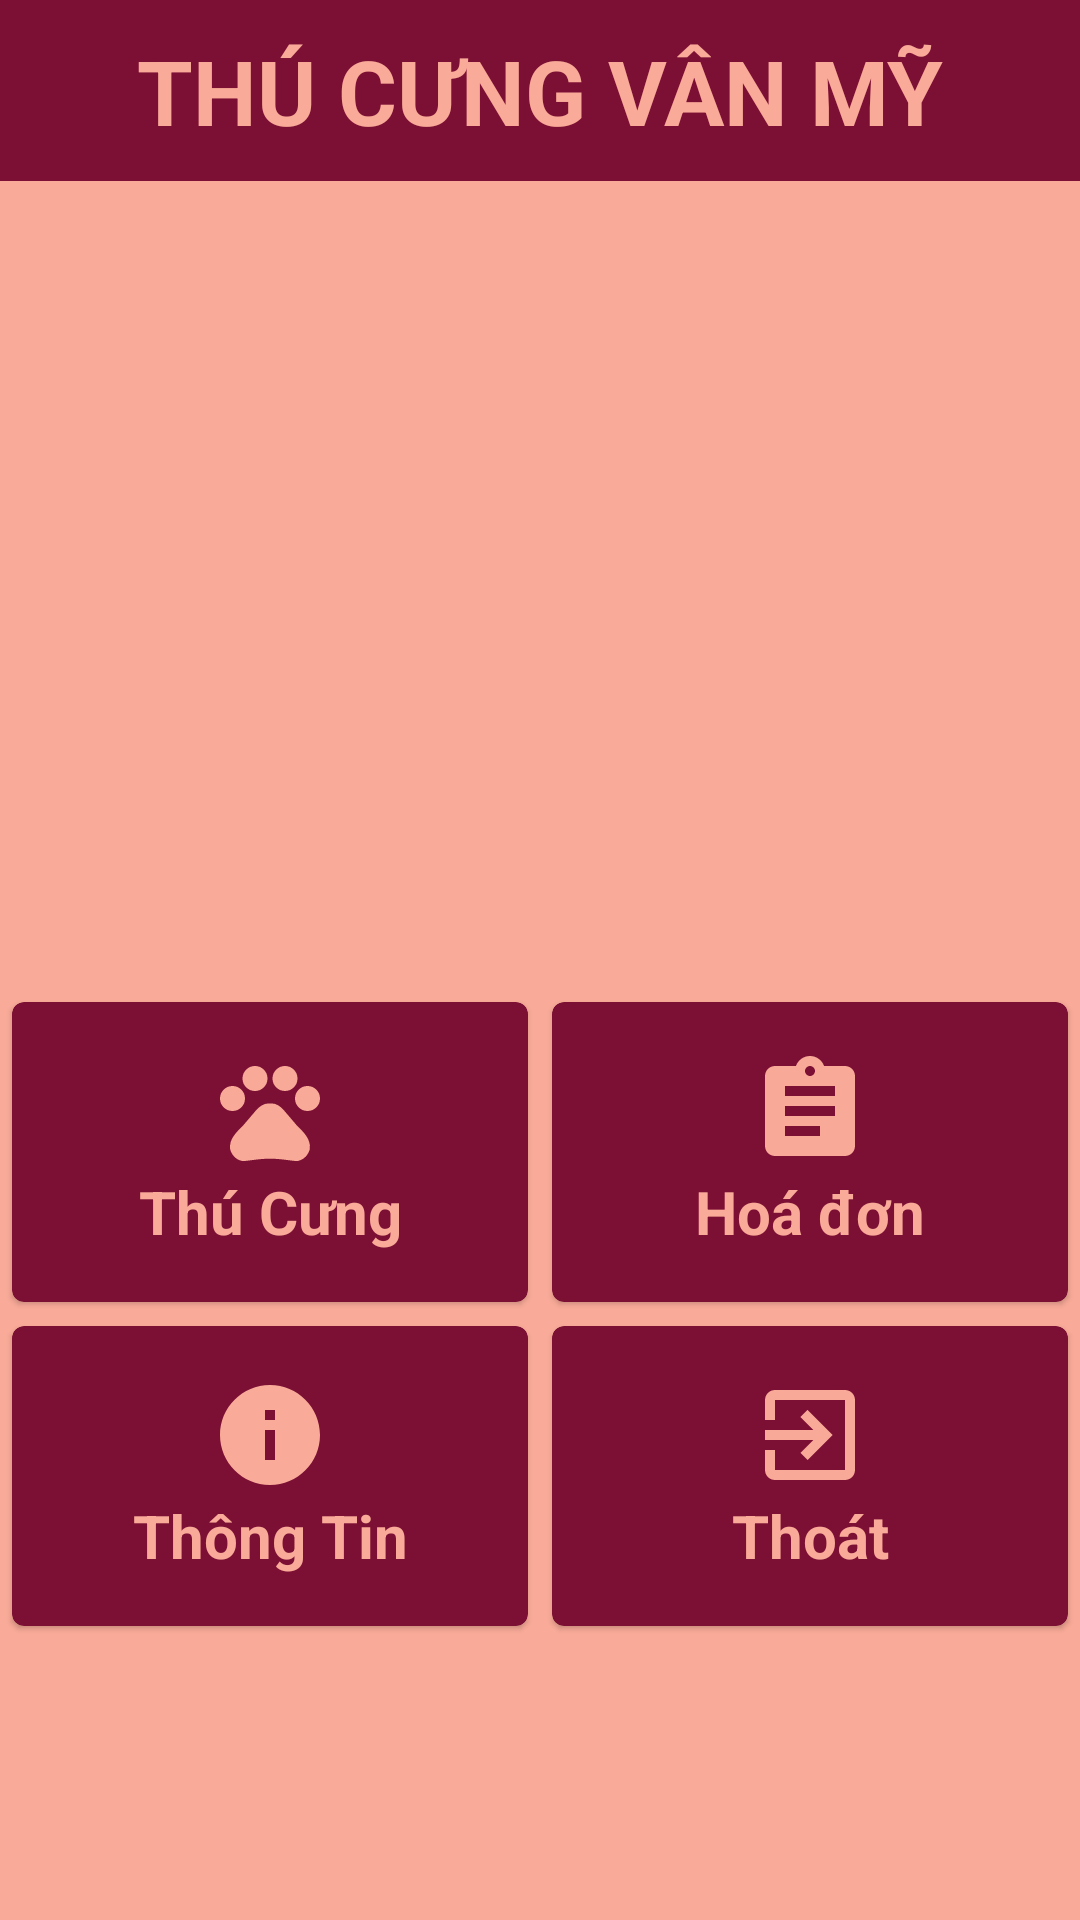

Where to tap for icons on this 1080x1920 app screen, as [x,y]:
assignment: [810,1106]
